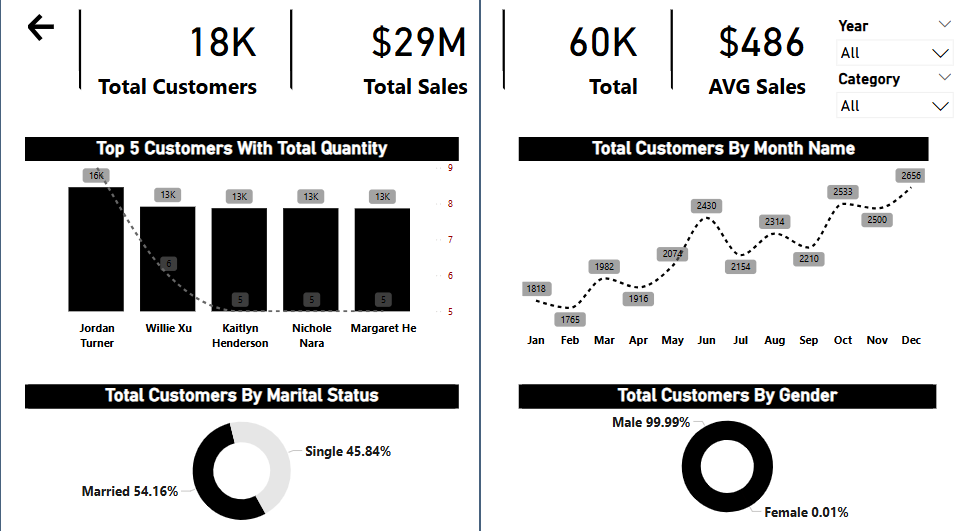

Layout of this report page (visuals, bound fields, positions):
{"tool":"powerbi","page":{"name":"Customers","canvas":[1280,720],"ordinal":1},"visuals":[{"type":"shape","box":[639.5,0,640.8,720.6],"z":0},{"type":"shape","box":[0,0,640,720],"z":1000},{"type":"actionButton","box":[32.9,0,136.3,81.5],"z":2000},{"type":"cardVisual","fields":{"Data":["_Measures.Total Customers","_Measures.Total Sales"]},"box":[88.3,0,565,158.3],"z":3000},{"type":"cardVisual","fields":{"Data":["_Measures.Total Quantity","_Measures.AVG Sales"]},"box":[653.2,0,451.1,158.1],"z":4000},{"type":"lineClusteredColumnComboChart","title":"Top 5 Customers With Total Quantity","fields":{"Category":["dim_customers.Full Name"],"Y":["_Measures.Total Sales"],"Y2":["_Measures.Total Orders"]},"box":[33.3,186.7,578.3,291.7],"z":5000},{"type":"donutChart","title":"Total Customers By Marital Status","fields":{"Y":["_Measures.Total Customers"],"Category":["dim_customers.marital_status"]},"box":[33.3,516.7,578.3,203.3],"z":6000},{"type":"lineChart","title":"Total Customers By Month Name","fields":{"Y":["_Measures.Total Customers"],"Category":["dim_calender.Month_Name"]},"box":[691.7,186.7,546.7,291.7],"z":7000},{"type":"donutChart","title":"Total Customers By Gender","fields":{"Y":["_Measures.Total Customers"],"Category":["dim_customers.gender"]},"box":[691.7,516.7,556.7,191.7],"z":8000},{"type":"slicer","fields":{"Values":["dim_calender.Year"]},"box":[1104.3,22,176,70.1],"z":9000},{"type":"slicer","fields":{"Values":["dim_products.category_name"]},"box":[1104.3,92.1,176,70.1],"z":10000}]}

Visuals, with their boxes in screenshot pixels (x1, y1, x2, y2), scaled from the page's 1280x720 canvas onto the 956x531 screenshot:
shape: rect(478, 0, 955, 530)
shape: rect(0, 0, 478, 530)
actionButton: rect(25, 0, 126, 60)
cardVisual - _Measures.Total Customers x _Measures.Total Sales: rect(66, 0, 488, 117)
cardVisual - _Measures.Total Quantity x _Measures.AVG Sales: rect(488, 0, 825, 117)
"Top 5 Customers With Total Quantity" lineClusteredColumnComboChart: rect(25, 138, 457, 353)
"Total Customers By Marital Status" donutChart: rect(25, 381, 457, 530)
"Total Customers By Month Name" lineChart: rect(517, 138, 925, 353)
"Total Customers By Gender" donutChart: rect(517, 381, 932, 522)
slicer - dim_calender.Year: rect(825, 16, 955, 68)
slicer - dim_products.category_name: rect(825, 68, 955, 120)
